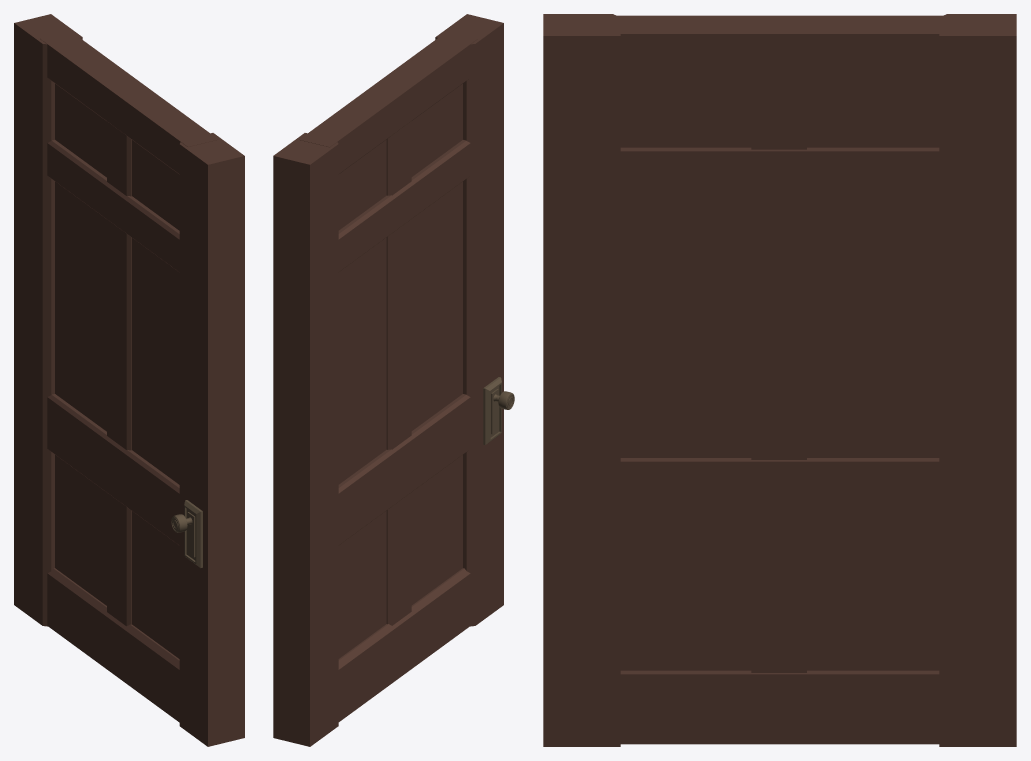
File: SM_Door_001.fbx
3 renders of one model, left to right at view 1: azimuth 30°, elevation 25°; view 2: azimuth 150°, elevation 25°; view 3: azimuth 270°, elevation 25°, orthographic. The views are drawn at different scales.
Visible parts, largest first — view 1: group42; view 2: group42; view 3: group42.
Boxes of the visible parts, bbox=[...] form: group42: bbox=[14, 14, 244, 746]; group42: bbox=[273, 14, 514, 746]; group42: bbox=[543, 14, 1016, 746].
Bounding box in the file's own units: 23.44 × 230 × 138.
